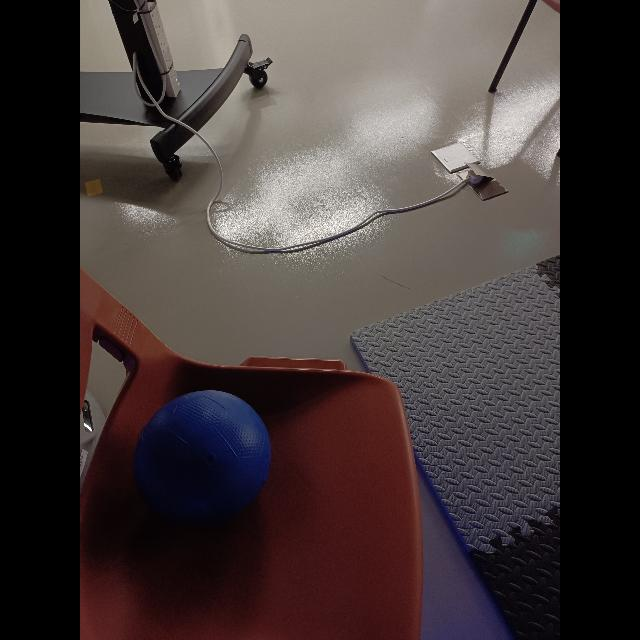B: (137, 389, 271, 516)
